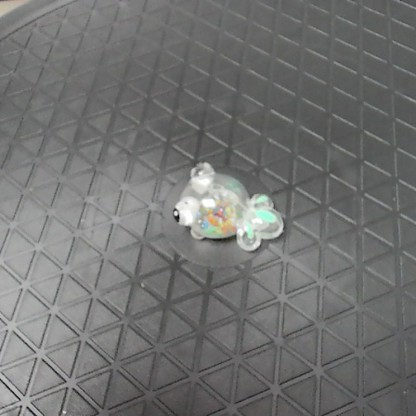whitefish: (170, 158, 284, 253)
